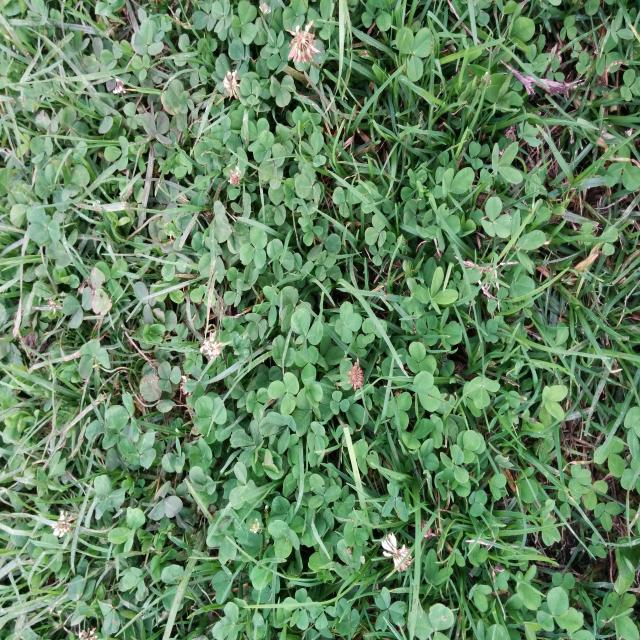Four Leaf Clover: (335, 301, 362, 344)
